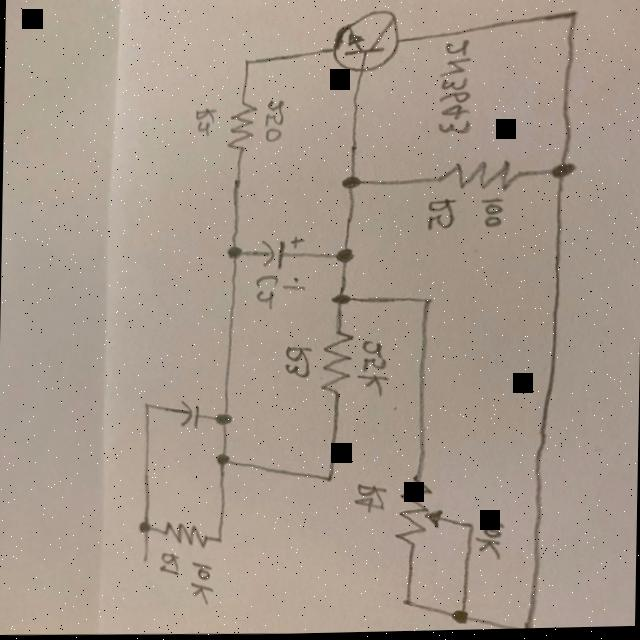capacitor: (259, 234, 305, 271), (172, 395, 205, 437)
junction: (540, 153, 588, 187), (333, 167, 368, 197), (409, 287, 443, 314), (554, 4, 586, 32), (323, 287, 357, 313), (324, 244, 360, 268), (442, 605, 476, 629), (217, 238, 246, 264), (208, 448, 238, 473), (312, 465, 340, 489), (129, 516, 157, 538), (392, 593, 416, 615), (209, 408, 235, 428), (234, 52, 258, 72), (507, 617, 539, 631), (134, 397, 156, 415), (211, 532, 227, 547), (466, 522, 474, 531)
resistor: (391, 475, 445, 549), (432, 157, 532, 195), (319, 325, 354, 402), (225, 98, 258, 158), (159, 516, 208, 551)
terminal: (134, 549, 150, 571)
text: (436, 39, 478, 135), (356, 338, 391, 403), (474, 517, 507, 565), (420, 196, 460, 234), (186, 558, 217, 607), (280, 341, 314, 382), (477, 196, 512, 235), (349, 480, 388, 515), (260, 98, 288, 145), (248, 271, 280, 312), (186, 101, 218, 139), (155, 550, 183, 577), (280, 275, 308, 297)
transistor: (326, 3, 404, 80)
